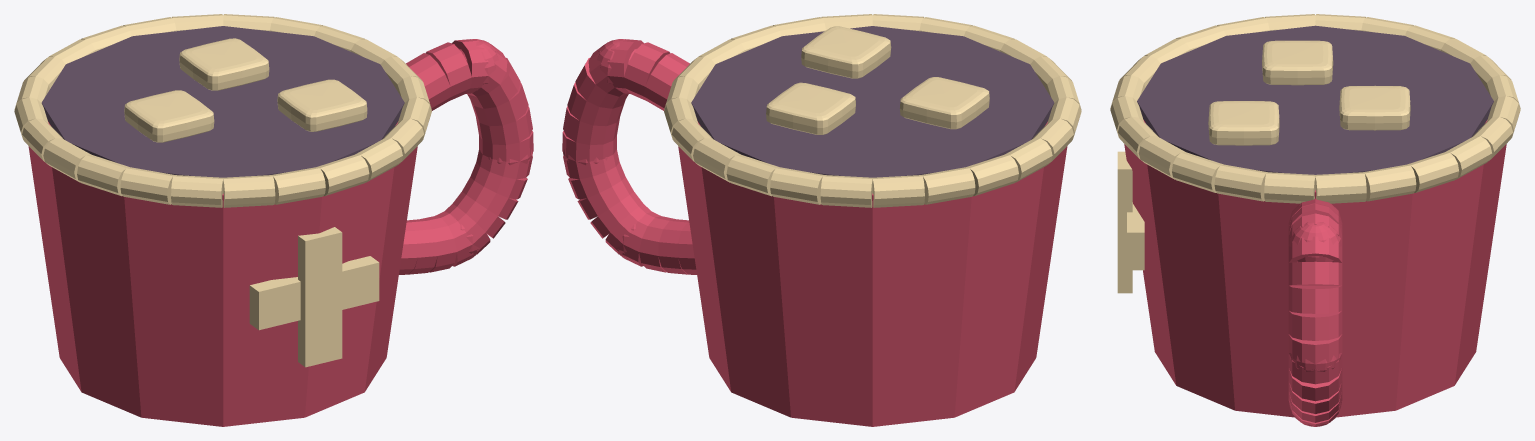
File: hot-chocolate-side-table.glb
3 renders of one model, left to right at view 1: azimuth 30°, elevation 25°; view 2: azimuth 150°, elevation 25°; view 3: azimuth 270°, elevation 25°, orthographic.
Visible parts, largest first — view 1: hot-chocolate-side-table; view 2: hot-chocolate-side-table; view 3: hot-chocolate-side-table.
Boxes of the visible parts, <box> form: hot-chocolate-side-table: <box>14,14,533,426</box>; hot-chocolate-side-table: <box>562,14,1081,426</box>; hot-chocolate-side-table: <box>1110,14,1520,426</box>.
Size of the model in its own units: 0.9298 by 0.4975 by 0.6896.
